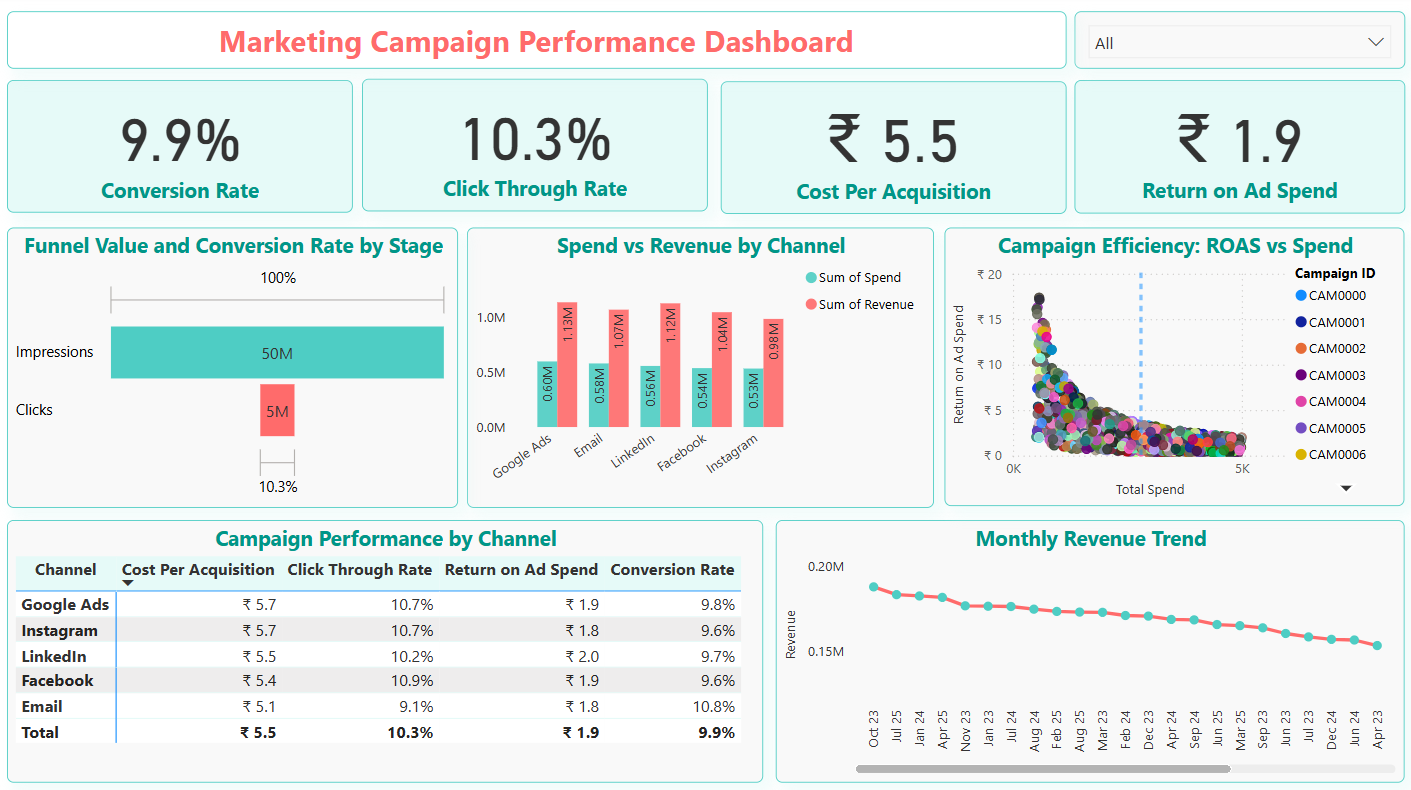

This screenshot's page, from the dashboard's own definition file:
{"tool":"powerbi","page":{"name":"Page 1","canvas":[1280,720],"ordinal":0},"visuals":[{"type":"card","fields":{"Values":["Marketing_Campaign_Data.Conversion Rate"]},"box":[9.3,76.7,312.8,119.8],"z":0},{"type":"card","title":"Click Through Rate","fields":{"Values":["Marketing_Campaign_Data.CTR"]},"box":[330.2,75.6,312.8,119.8],"z":1000},{"type":"card","title":"Cost Per Acquisition","fields":{"Values":["Marketing_Campaign_Data.CPA"]},"box":[654.7,77.9,312.8,119.8],"z":2000},{"type":"card","title":"Return on Ad Spend","fields":{"Values":["Marketing_Campaign_Data.ROAS"]},"box":[974.4,76.7,298.8,120.9],"z":3000},{"type":"clusteredColumnChart","title":"Spend vs Revenue by Channel","fields":{"Y":["Sum(Marketing_Campaign_Data.Spend)","Sum(Marketing_Campaign_Data.Revenue)"],"Category":["Marketing_Campaign_Data.Channel"]},"box":[425.6,210.5,422.1,253.5],"z":4000},{"type":"funnel","fields":{"Y":["FunnelData.Funnel Value"],"Category":["FunnelData.Stage"]},"box":[9.3,210.5,408.1,253.5],"z":5000},{"type":"pivotTable","title":"Campaign Performance by Channel","fields":{"Rows":["Marketing_Campaign_Data.Channel"],"Values":["Marketing_Campaign_Data.Cost Per Acquisition","Marketing_Campaign_Data.Click Through Rate","Marketing_Campaign_Data.Return on Ad Spend","Marketing_Campaign_Data.Conversion Rate"]},"box":[9.3,474.4,683.7,237.2],"z":6000},{"type":"slicer","fields":{"Values":["Marketing_Campaign_Data.Channel","Marketing_Campaign_Data.Start Date","Marketing_Campaign_Data.Campaign ID"]},"box":[974.4,15.1,298.8,52.3],"z":7000},{"type":"textbox","box":[9.3,15.1,958.1,52.3],"z":8000},{"type":"lineChart","title":"Monthly Revenue Trend","fields":{"Category":["Marketing_Campaign_Data.MonthYear"],"Y":["Sum(Marketing_Campaign_Data.Revenue)"]},"box":[704.7,474.4,568.6,237.2],"z":9000},{"type":"scatterChart","title":"Campaign Efficiency: ROAS vs Spend","fields":{"X":["Sum(Marketing_Campaign_Data.Spend)"],"Y":["Marketing_Campaign_Data.Return on Ad Spend"],"Series":["Marketing_Campaign_Data.Campaign ID"]},"box":[857,210.5,416.3,252.3],"z":10000}]}

Visuals, with their boxes in screenshot pixels (x1, y1, x2, y2), scaled from the page's 1280x720 canvas onto the 1411x790 screenshot:
card - Marketing_Campaign_Data.Conversion Rate: left=10, top=84, right=355, bottom=216
"Click Through Rate" card: left=364, top=83, right=709, bottom=214
"Cost Per Acquisition" card: left=722, top=85, right=1067, bottom=217
"Return on Ad Spend" card: left=1074, top=84, right=1404, bottom=217
"Spend vs Revenue by Channel" clusteredColumnChart: left=469, top=231, right=934, bottom=509
funnel - FunnelData.Funnel Value x FunnelData.Stage: left=10, top=231, right=460, bottom=509
"Campaign Performance by Channel" pivotTable: left=10, top=521, right=764, bottom=781
slicer - Marketing_Campaign_Data.Channel x Marketing_Campaign_Data.Start Date: left=1074, top=17, right=1404, bottom=74
textbox: left=10, top=17, right=1066, bottom=74
"Monthly Revenue Trend" lineChart: left=777, top=521, right=1404, bottom=781
"Campaign Efficiency: ROAS vs Spend" scatterChart: left=945, top=231, right=1404, bottom=508
